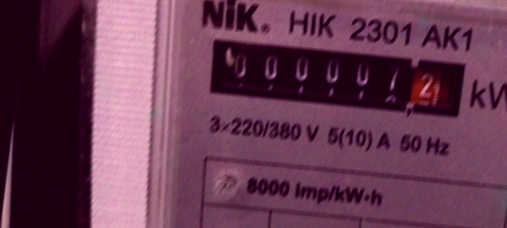0: (290, 54, 311, 83), (229, 51, 249, 80), (260, 53, 280, 82), (322, 56, 341, 85), (352, 59, 371, 88)
2: (416, 70, 435, 101)
7: (382, 63, 401, 94)
screen: (198, 26, 477, 130)
